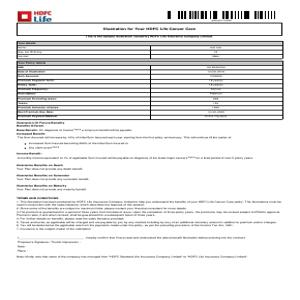image: (16, 9, 52, 23)
table: (17, 41, 283, 119)
text: (16, 123, 256, 193), (15, 196, 282, 232), (15, 236, 249, 262)
